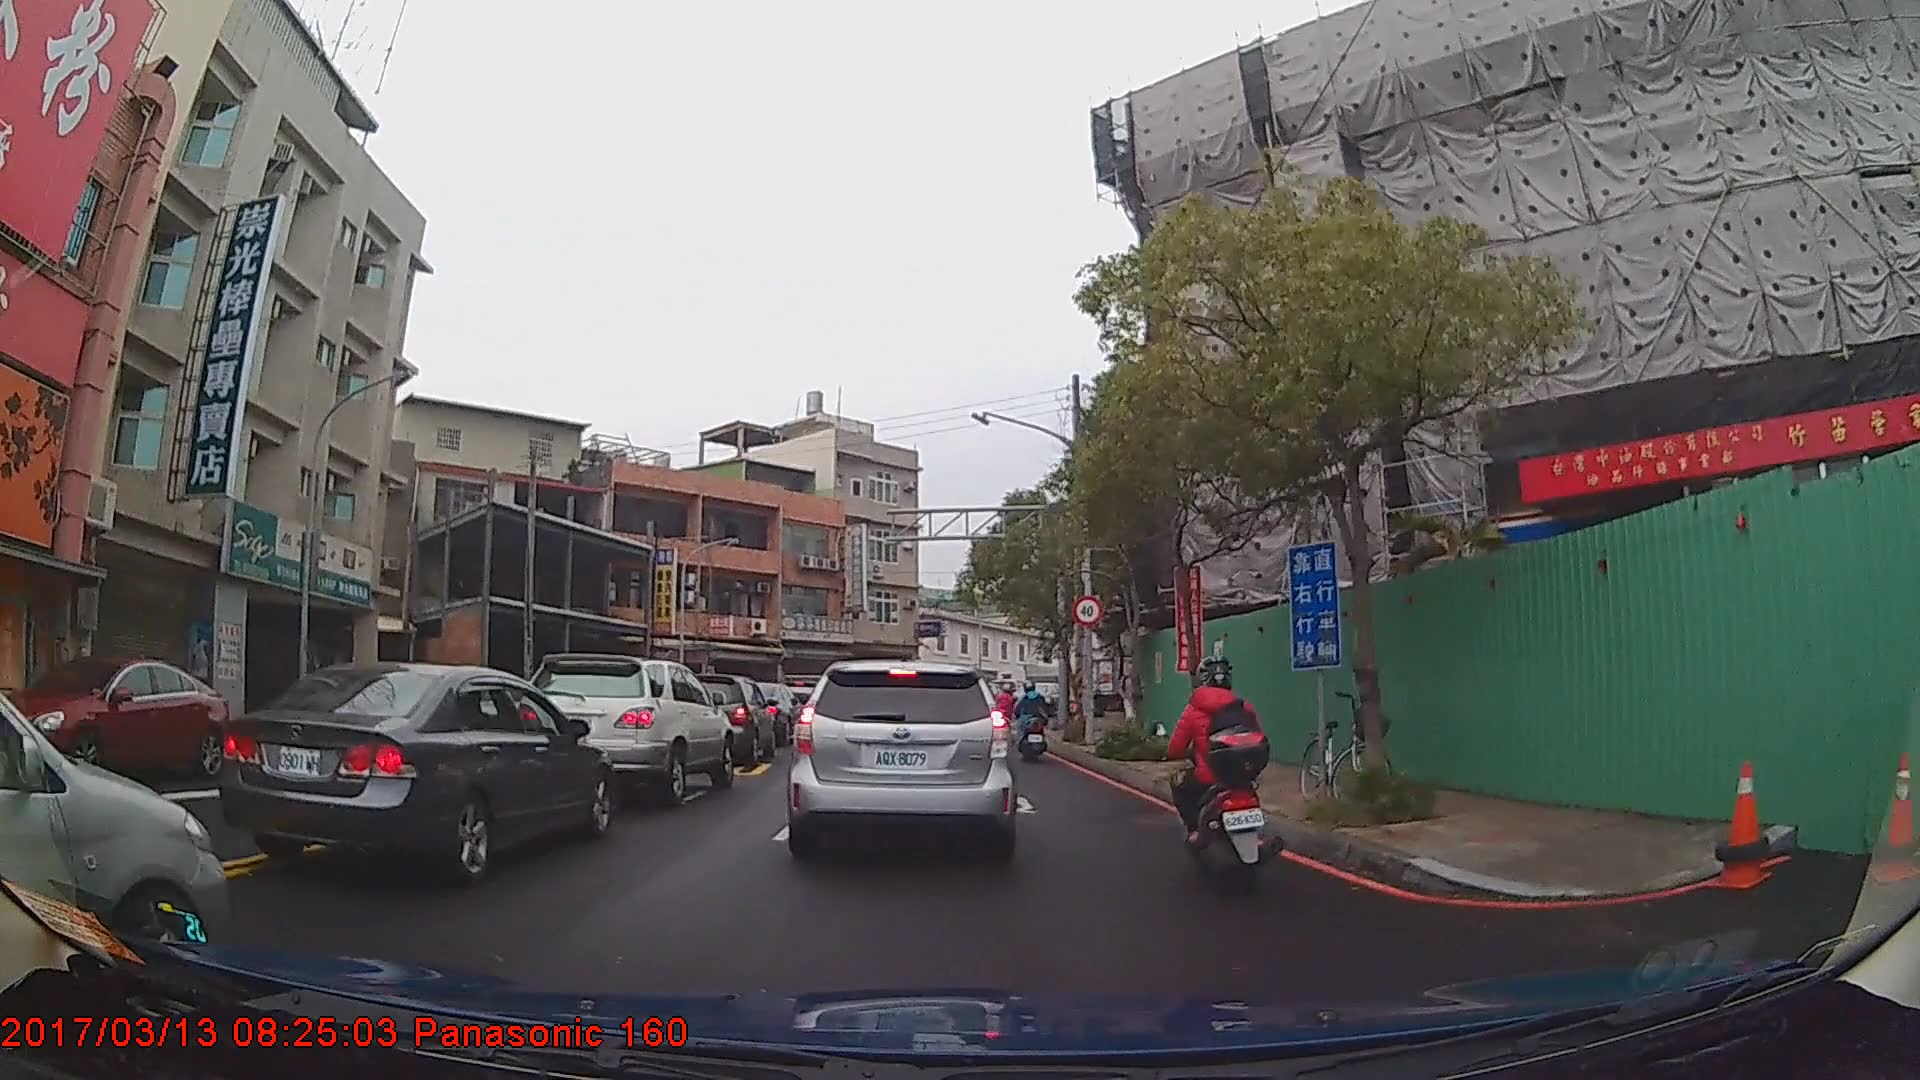pedestrian: (1115, 665, 1143, 741)
rider: (1160, 650, 1281, 887), (1014, 683, 1054, 769), (994, 683, 1019, 741)
vehicle: (219, 661, 610, 879), (0, 689, 232, 986), (783, 658, 1020, 857), (520, 651, 732, 807), (24, 655, 229, 781), (679, 672, 776, 768)
